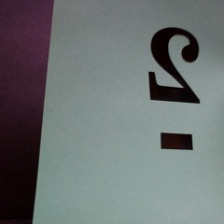green2: (141, 18, 206, 153)
